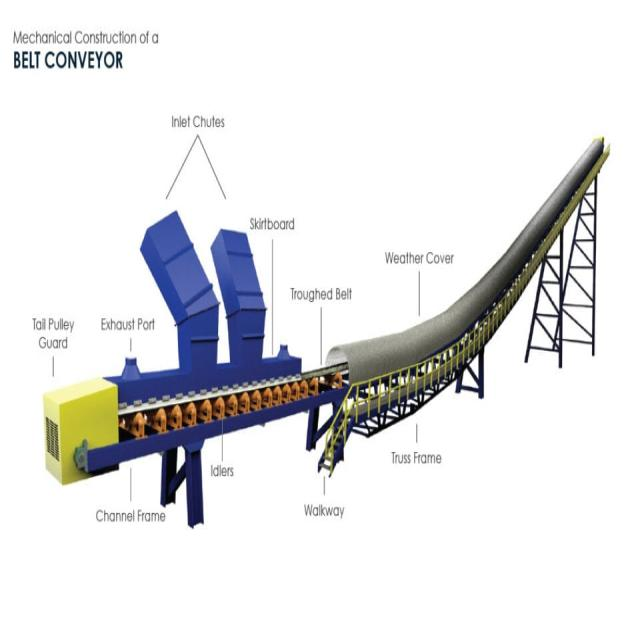conveyor: (19, 120, 617, 531)
